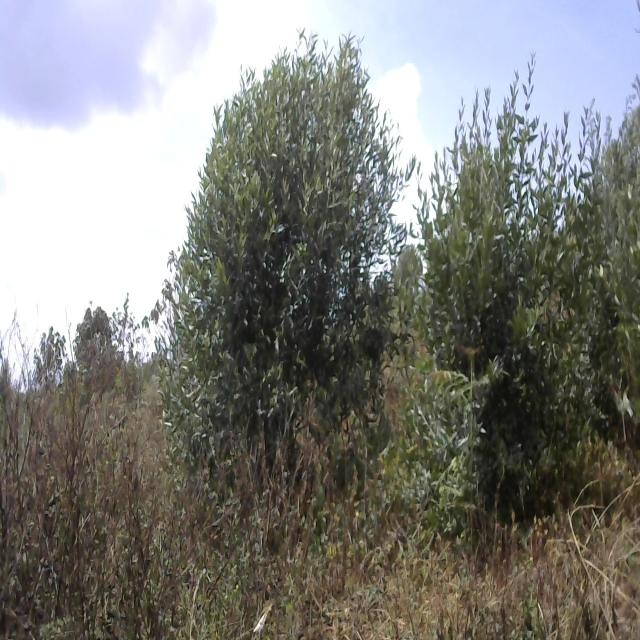Olea europea -africana-: (170, 26, 416, 485), (416, 62, 614, 514)
